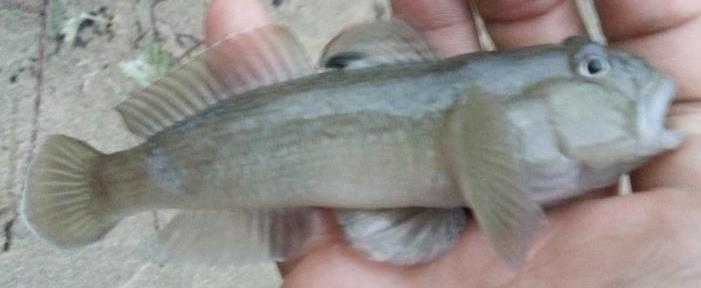Goby: (22, 15, 681, 271)
